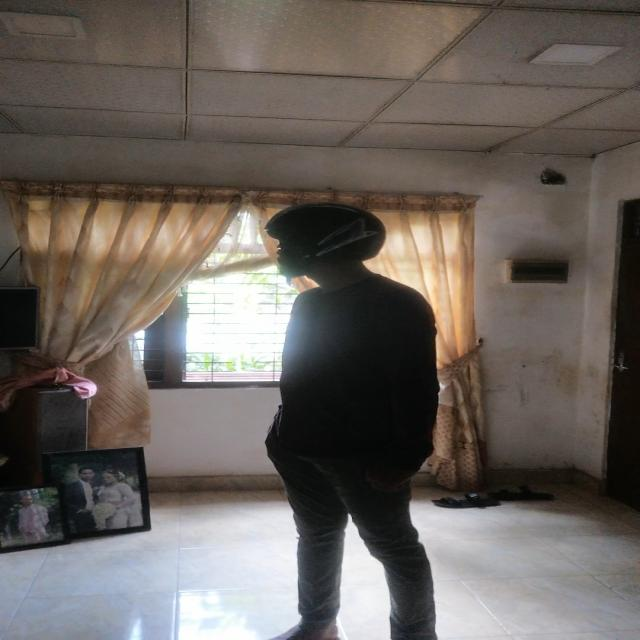Helmet_Wearer: (243, 198, 387, 274)
Person: (245, 196, 450, 640)
